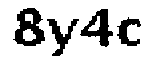4: (79, 5, 114, 51)
8: (9, 4, 47, 50)
c: (116, 16, 145, 50)
y: (44, 13, 78, 58)
